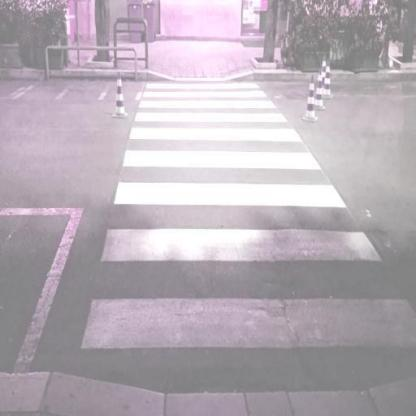crosswalk: (109, 144, 349, 213), (132, 102, 288, 130), (136, 77, 270, 97)
